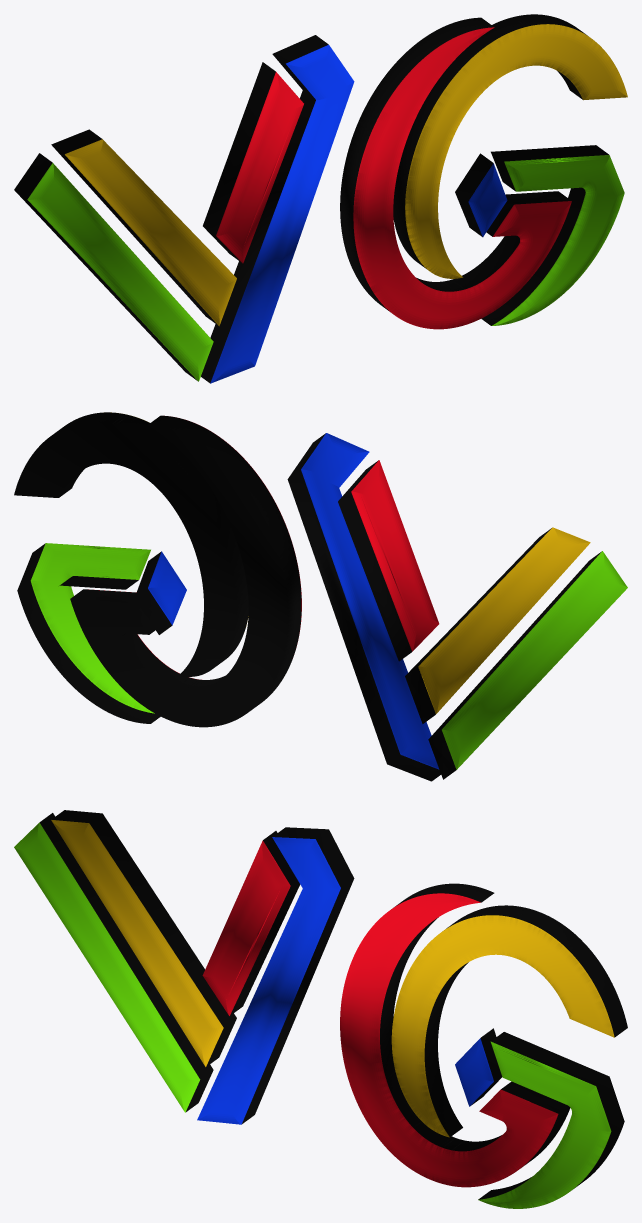
The model's file is glbCenter3.glb.
3 renders of one model, top to bottom at view 1: azimuth 30°, elevation 25°; view 2: azimuth 150°, elevation 25°; view 3: azimuth 330°, elevation 25°, orthographic.
Visible parts, largest first — view 1: VGNew; view 2: VGNew; view 3: VGNew.
Part boxes in pixels (<box>): VGNew: <box>14,14,627,383</box>; VGNew: <box>14,412,627,781</box>; VGNew: <box>14,810,627,1208</box>.
Bounding box in the file's own units: 1.05 × 0.5378 × 0.046.
